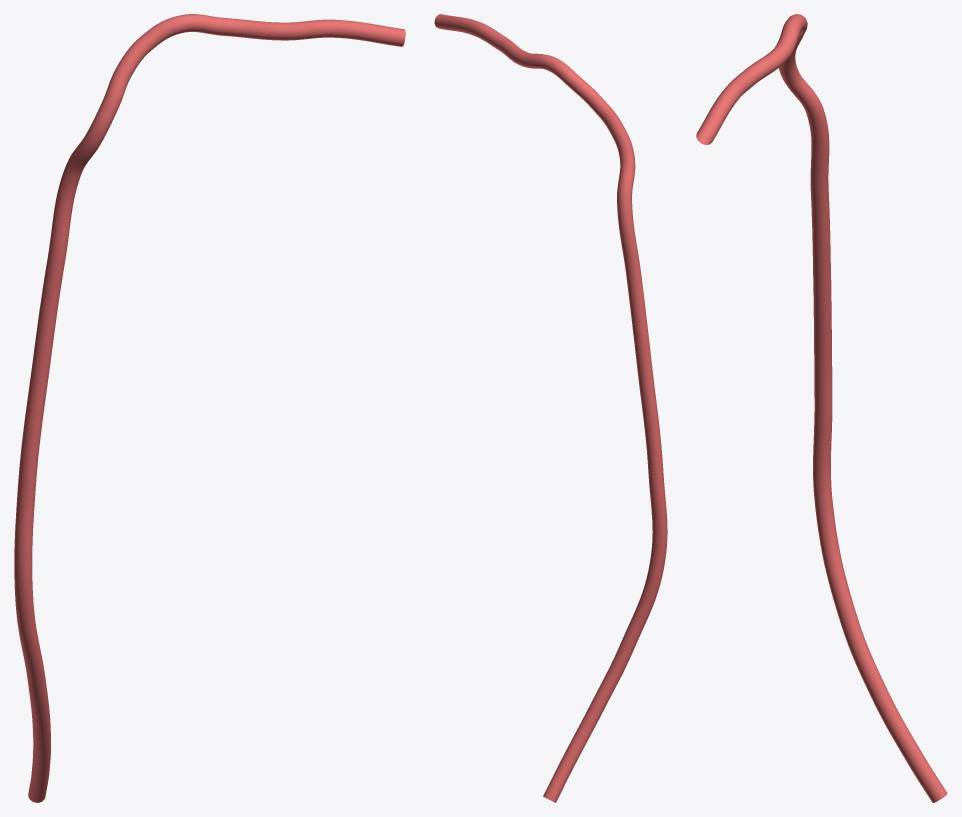
The model's file is Septal_branches_of_posterior_ethmoidal_artery.l_BezierCurve.095.glb.
3 views of the same model, side by side, from view 1: azimuth 30°, elevation 25°; view 2: azimuth 150°, elevation 25°; view 3: azimuth 270°, elevation 25° (orthographic). The views are drawn at different scales.
Visible parts, largest first — view 1: Septal_branches_of_posterior_ethmoidal_artery.l_BezierCurve.; view 2: Septal_branches_of_posterior_ethmoidal_artery.l_BezierCurve.; view 3: Septal_branches_of_posterior_ethmoidal_artery.l_BezierCurve..
Boxes of the visible parts, x1=… form: Septal_branches_of_posterior_ethmoidal_artery.l_BezierCurve.: x1=14, y1=14, x2=405, y2=802; Septal_branches_of_posterior_ethmoidal_artery.l_BezierCurve.: x1=434, y1=14, x2=667, y2=802; Septal_branches_of_posterior_ethmoidal_artery.l_BezierCurve.: x1=696, y1=14, x2=947, y2=802.
Bounding box in the file's own units: 0.0128 × 0.0302 × 0.00841.
